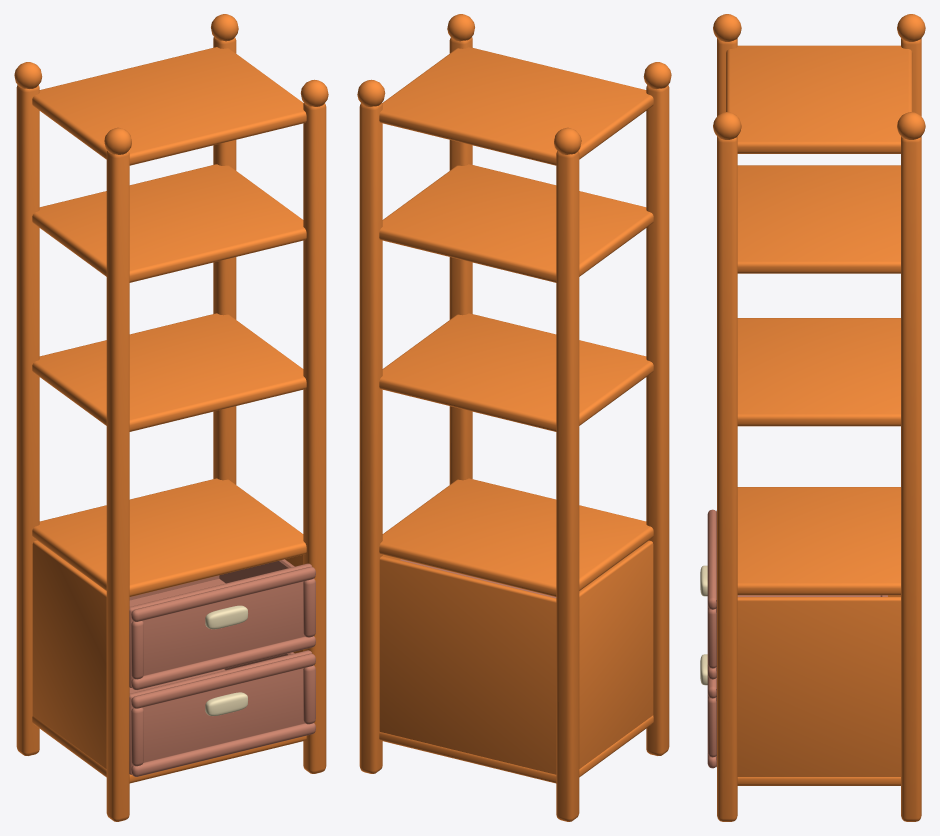
The model's file is estante_cestos_laranja.glb.
The picture shows the model from 3 angles, left to right: view 1: azimuth 30°, elevation 25°; view 2: azimuth 150°, elevation 25°; view 3: azimuth 270°, elevation 25°; orthographic projection. The views are drawn at different scales.
Visible parts, largest first — view 1: estante_cestos_laranja, gaveta_2, gaveta_1; view 2: estante_cestos_laranja; view 3: estante_cestos_laranja, gaveta_2, gaveta_1.
Part boxes in pixels (left/top/right/bottom): estante_cestos_laranja: left=14, top=14, right=328, bottom=821; gaveta_2: left=129, top=559, right=315, bottom=689; gaveta_1: left=129, top=650, right=315, bottom=776; estante_cestos_laranja: left=357, top=14, right=671, bottom=821; estante_cestos_laranja: left=713, top=14, right=925, bottom=821; gaveta_2: left=700, top=509, right=887, bottom=679; gaveta_1: left=700, top=654, right=716, bottom=768.
Bounding box in the file's own units: 0.4328 × 1.3 × 0.375.
Materials: 1 (1 with a texture image).
